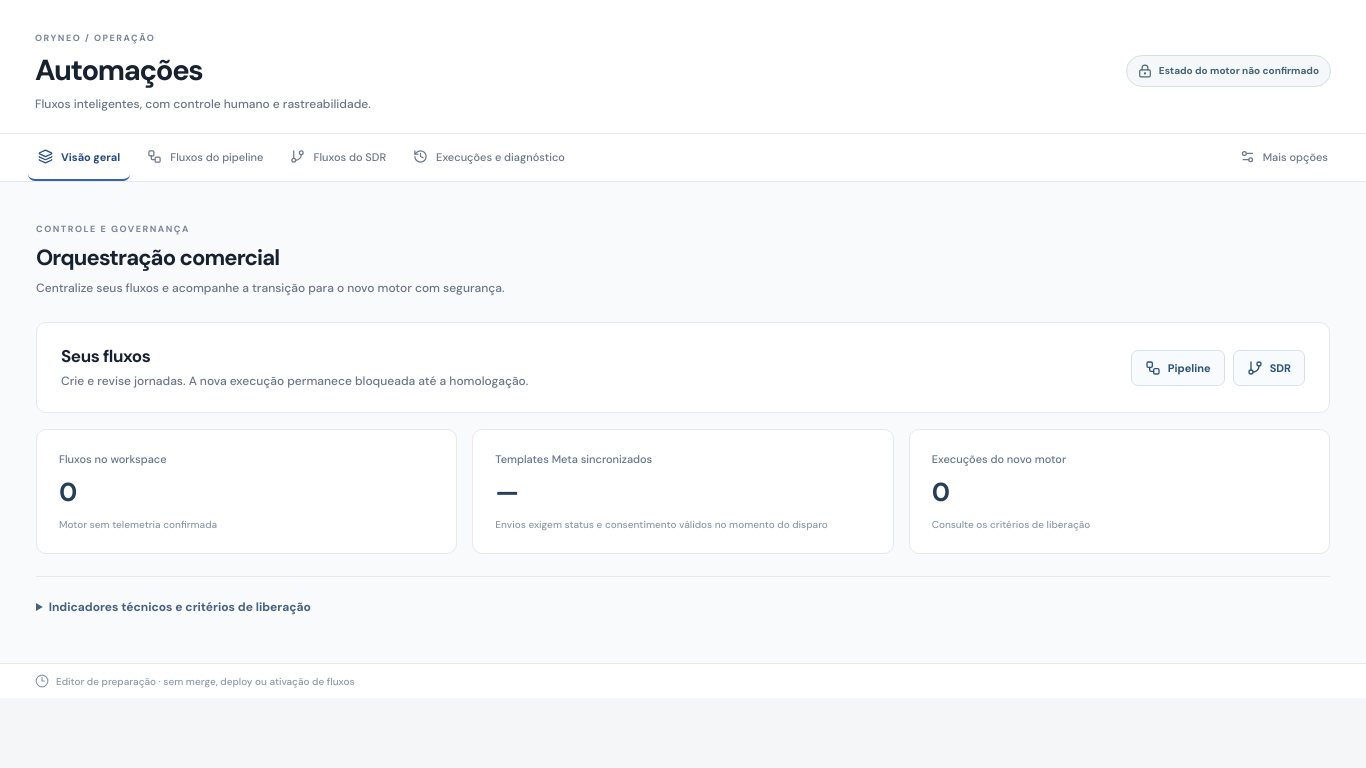
Test case: Automações: interação visual isolada › simula sem enviar mensagens ou publicar versões
Step 1. Click the button "Fluxos do SDR" → click(338, 158), box 280,134 -> 396,181
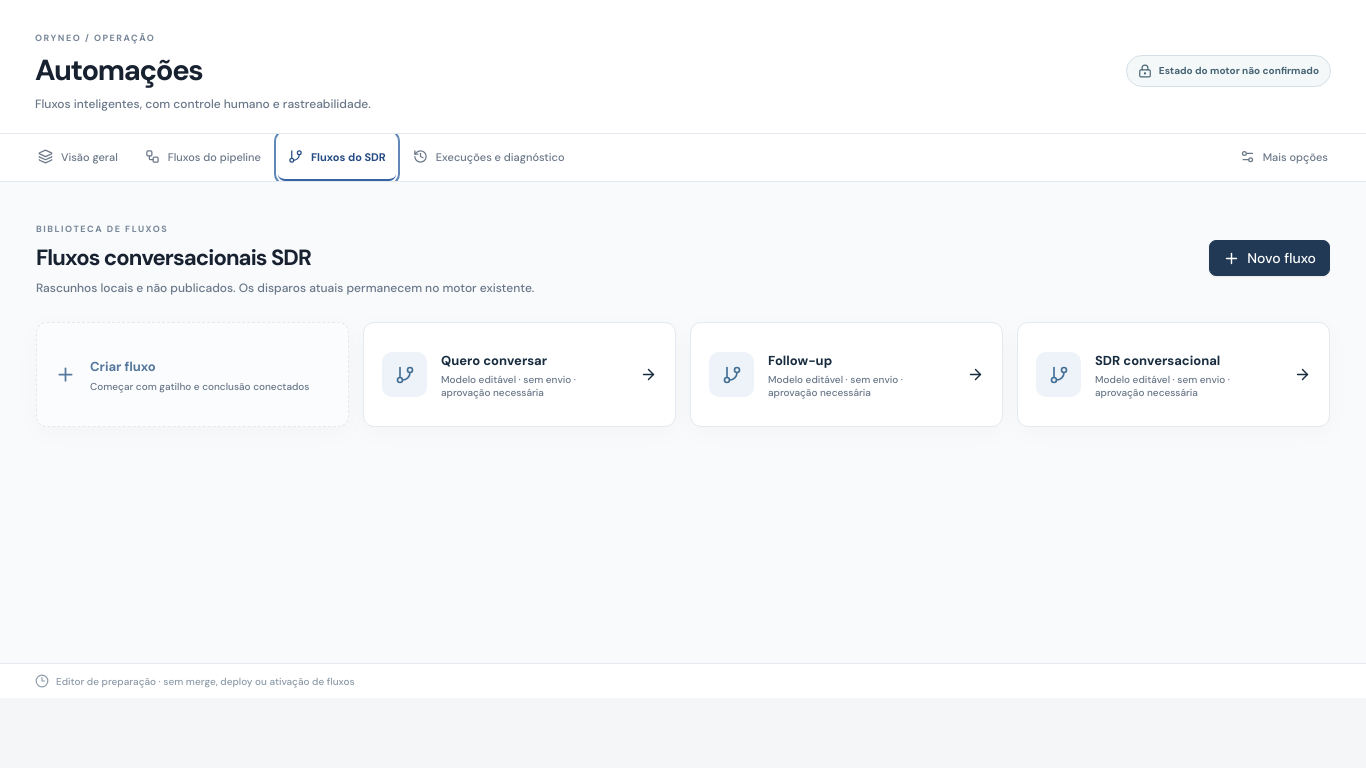
Step 2. Click the button "Novo fluxo" → click(1270, 258), box 1209,240 -> 1330,276
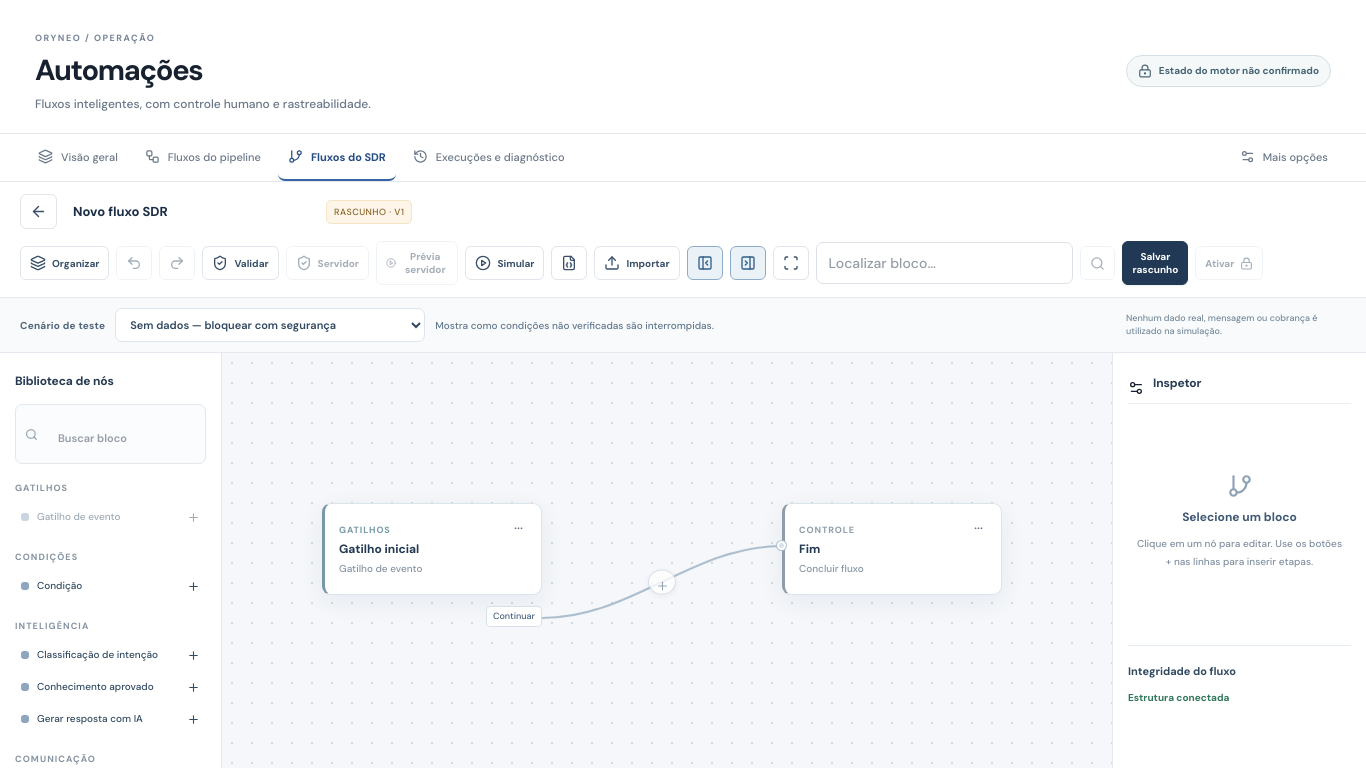
Step 3. Click the button titled "Simular sem efeitos externos" → click(505, 263), box 465,246 -> 544,280
(page scrolled)
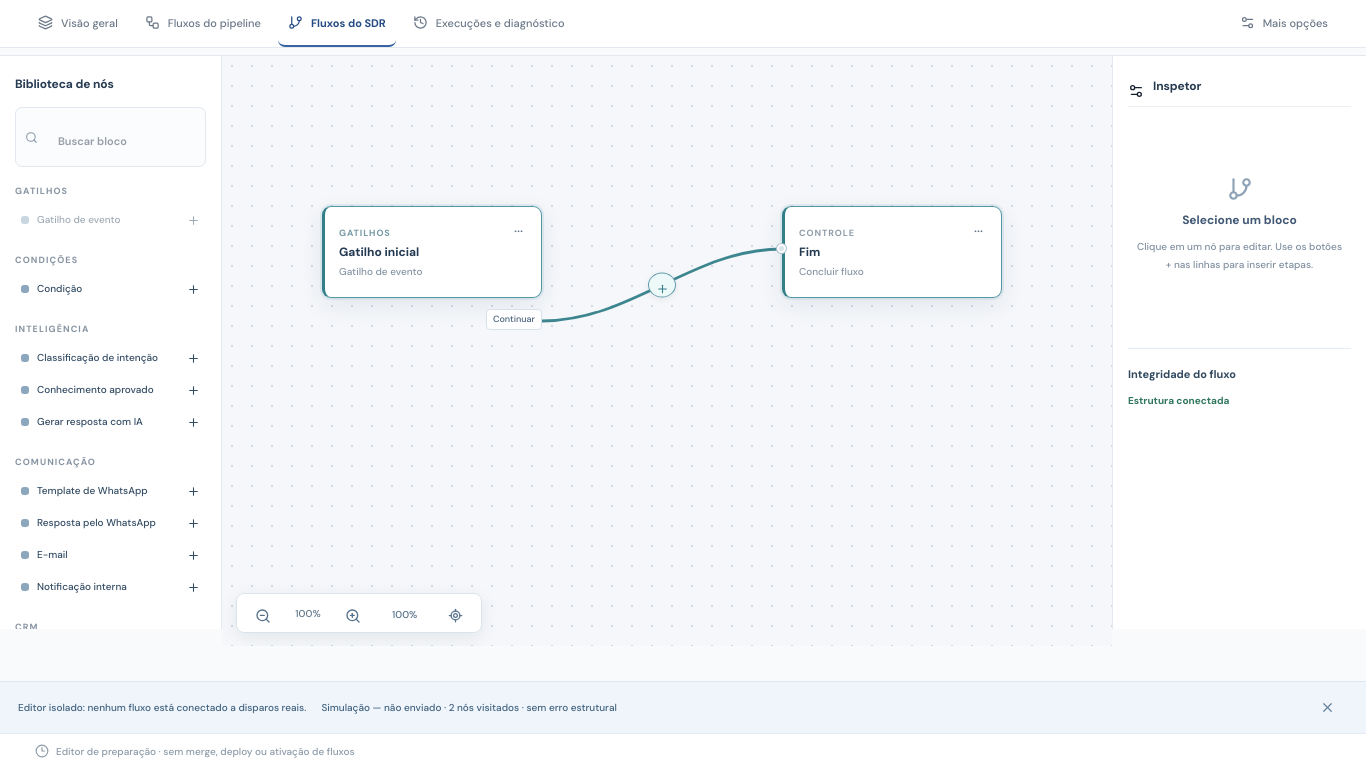
Expected: the text "Editor de preparação · sem merge, deploy ou ativação de fluxos" is shown, 0,733 -> 1365,767
Expected: the text "Simulação — não enviado" is shown, 321,701 -> 449,714
